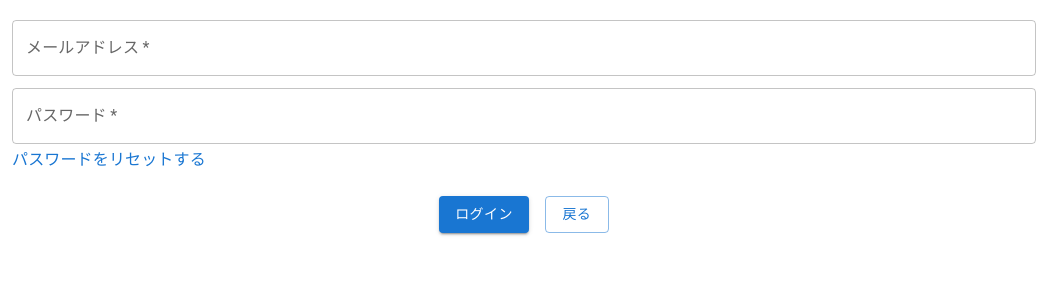
Test: LoginForm › validation message is displayed if the email address entered is incorrect
The image size is (1048, 301).
Step 1. Type "test_gmail.com" into the field labelled "メールアドレス" → {"x": 524, "y": 48}, box 12,20 -> 1036,76
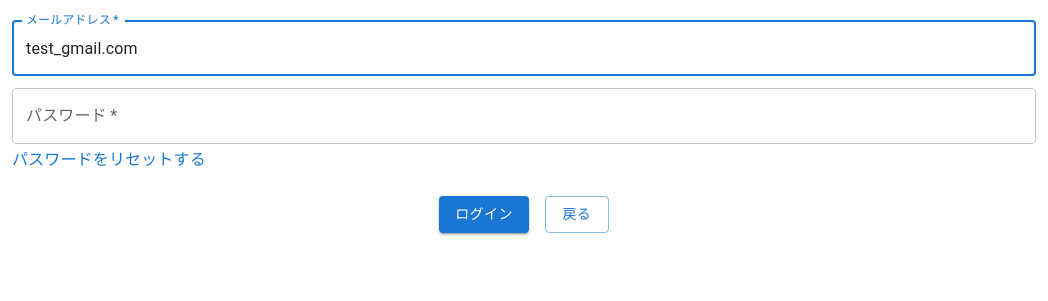
Step 2. Click the button "ログイン" → {"x": 484, "y": 214}, box 439,196 -> 529,232
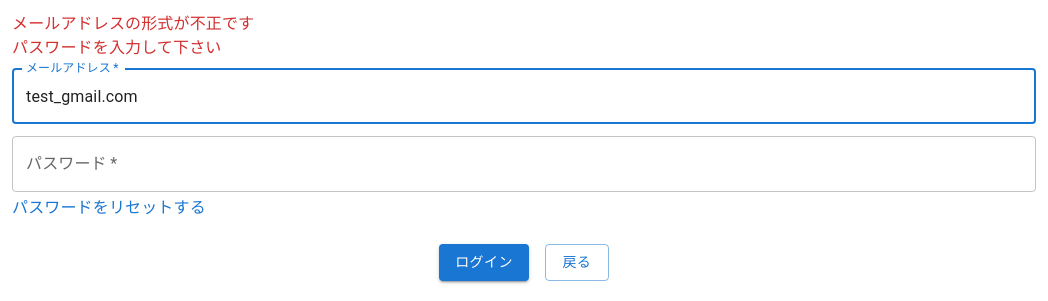
Now the text "メールアドレスの形式が不正です" is shown, box 12,14 -> 254,33
